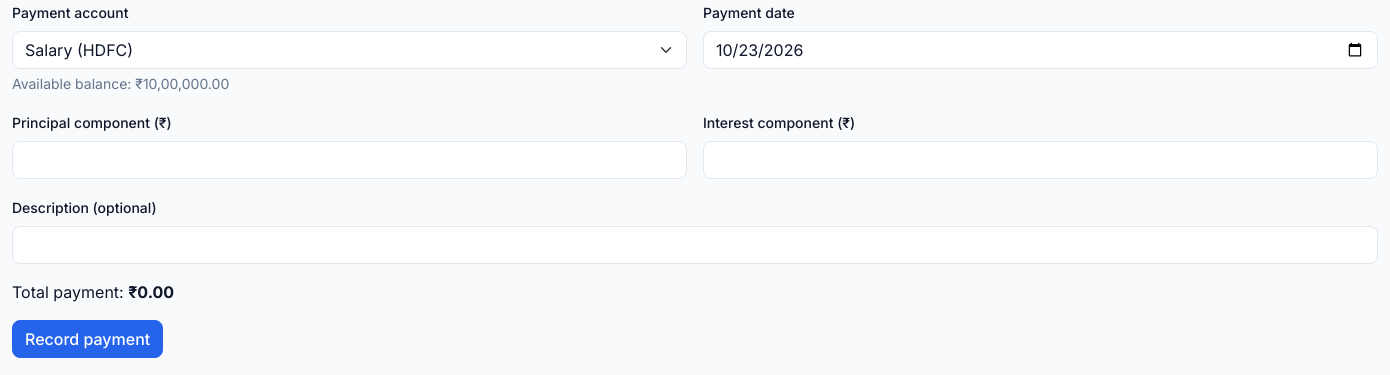
Test: RecordLoanPaymentForm › shows the live total of principal + interest
Type "6380" into the number field labelled "Principal component (₹)".
click(350, 160); type("6380")  # box [12,141,687,179]
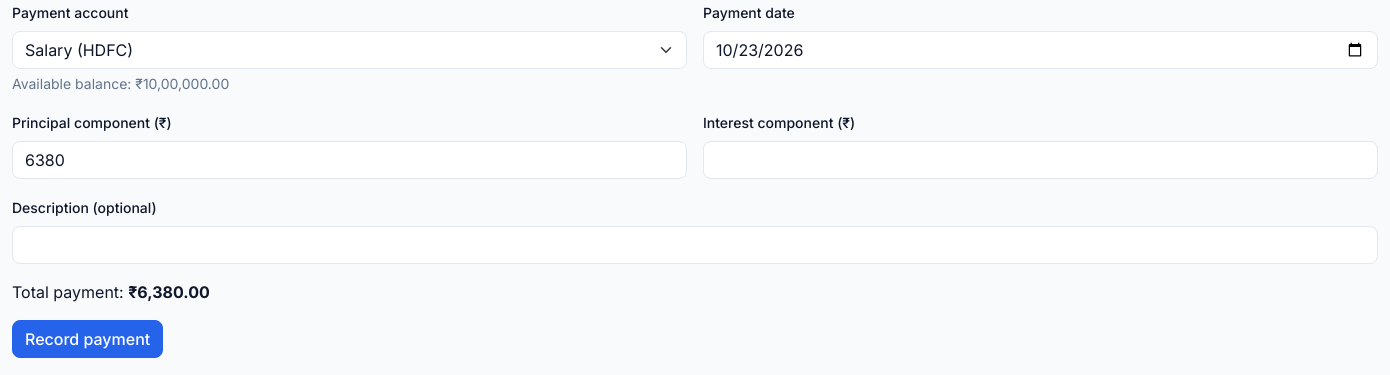
Type "4000" into the number field labelled "Interest component (₹)".
click(1040, 160); type("4000")  # box [703,141,1378,179]
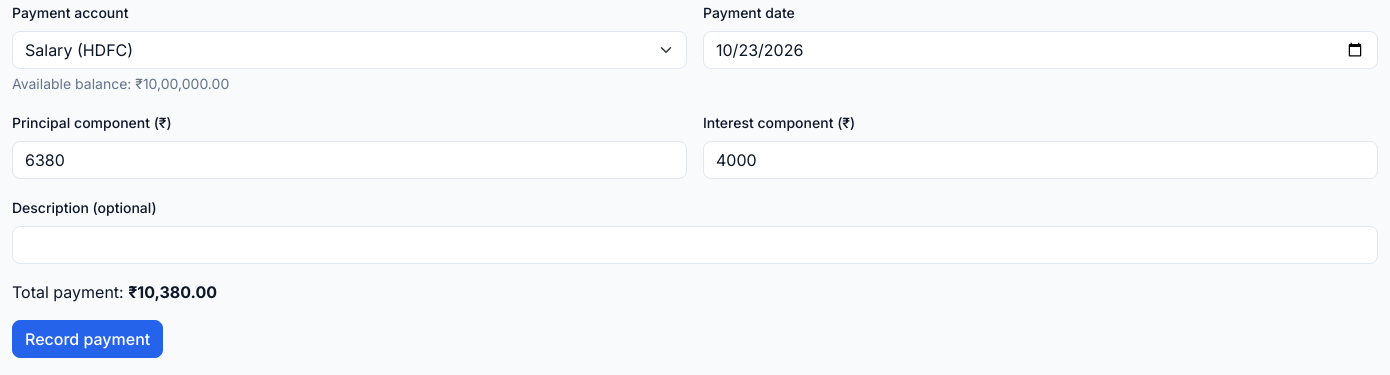
Check: the text "₹10,380.00" is shown, box [128,282,217,302]
